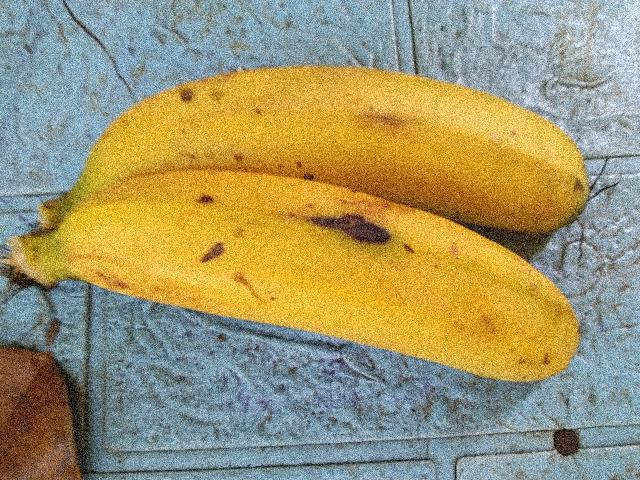freshripe: (40, 43, 598, 204)
ripe: (66, 164, 607, 444)
